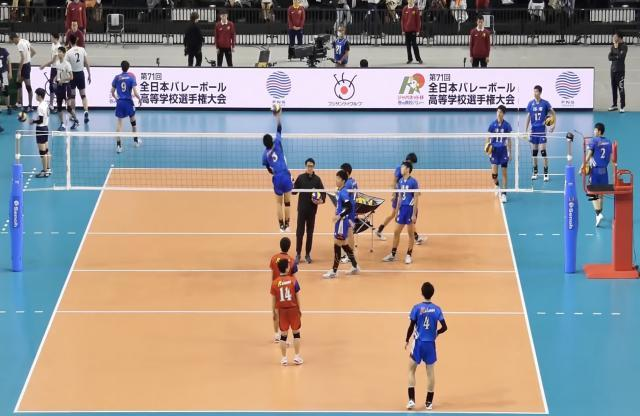spike: (258, 100, 296, 236)
